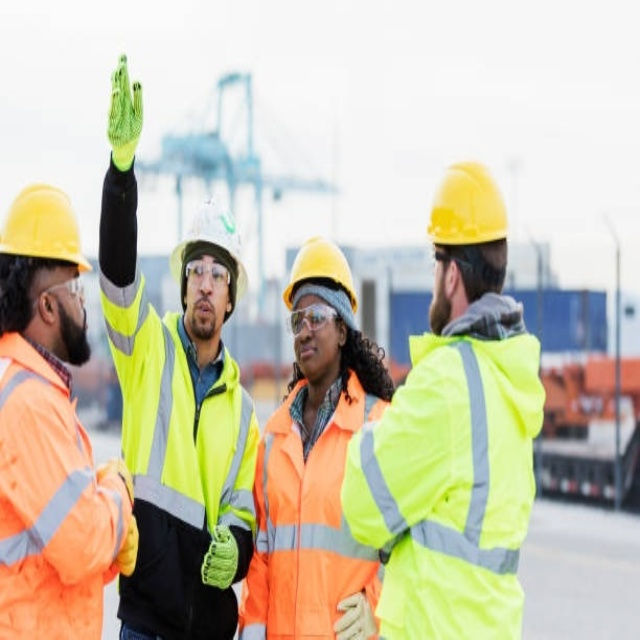Gafas: (35, 272, 85, 313), (184, 255, 232, 293), (292, 298, 338, 334), (430, 241, 456, 269)
Guantes: (108, 53, 147, 168), (201, 525, 238, 592), (333, 587, 375, 637), (114, 512, 140, 580)
Sin_mascara: (66, 308, 91, 354), (191, 293, 214, 325), (296, 335, 319, 366)
